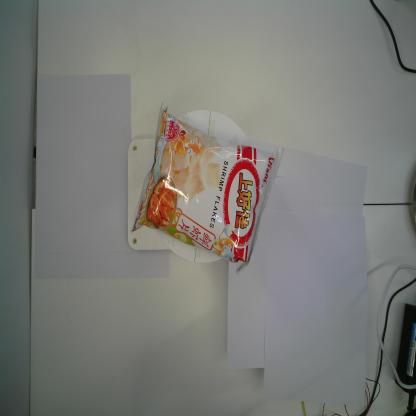Puffed Food: (130, 102, 285, 275)
